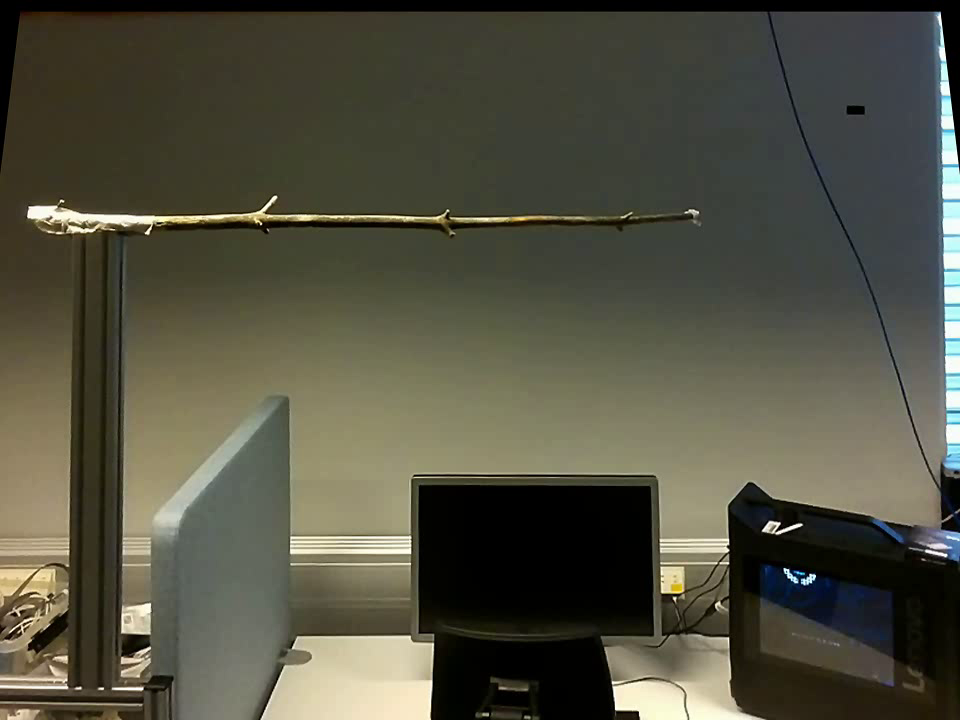aluminum_frame: (62, 235, 128, 688), (2, 671, 147, 712), (139, 667, 180, 718)
branch: (159, 187, 679, 245)
